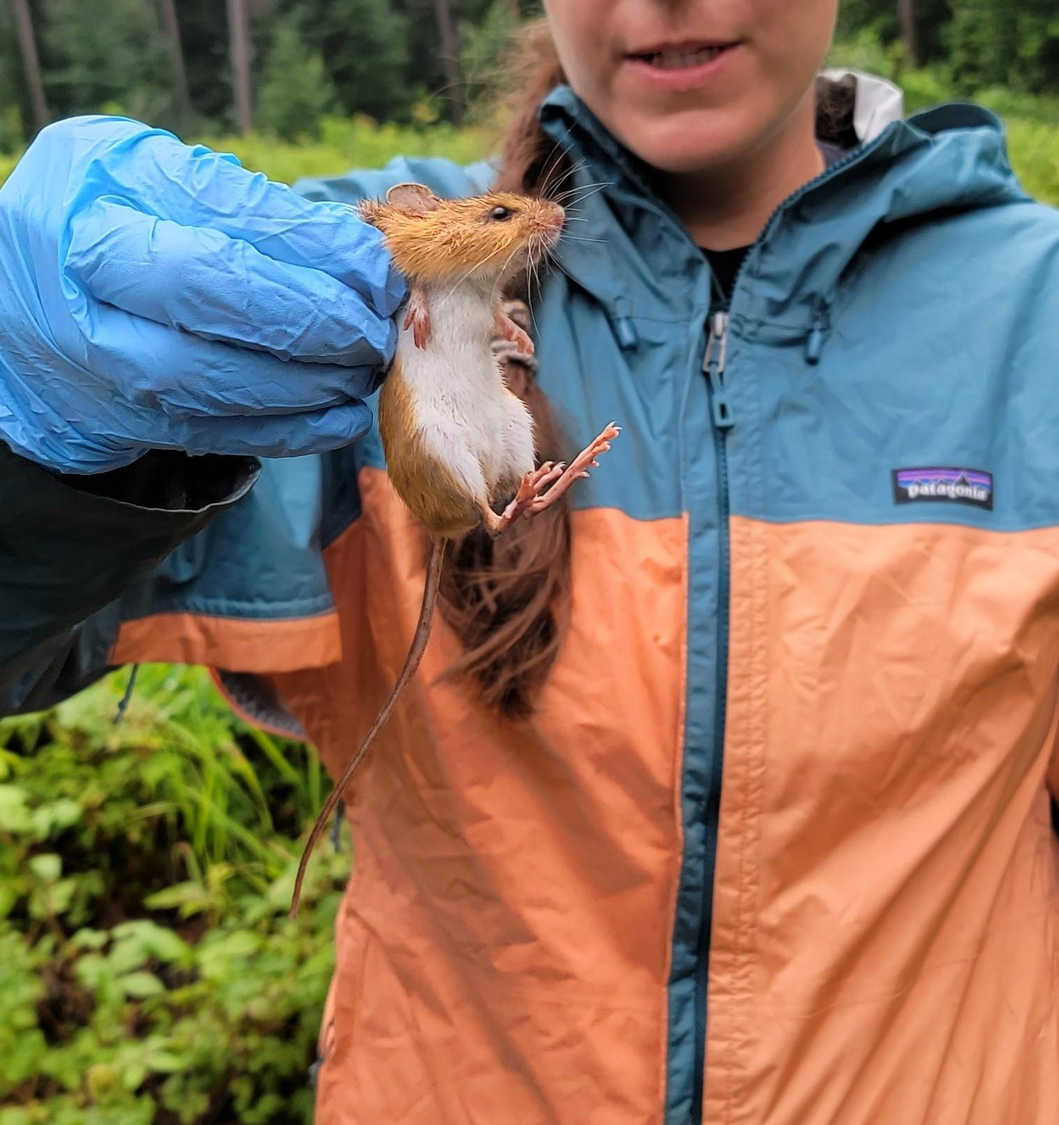rat: (378, 181, 619, 715)
